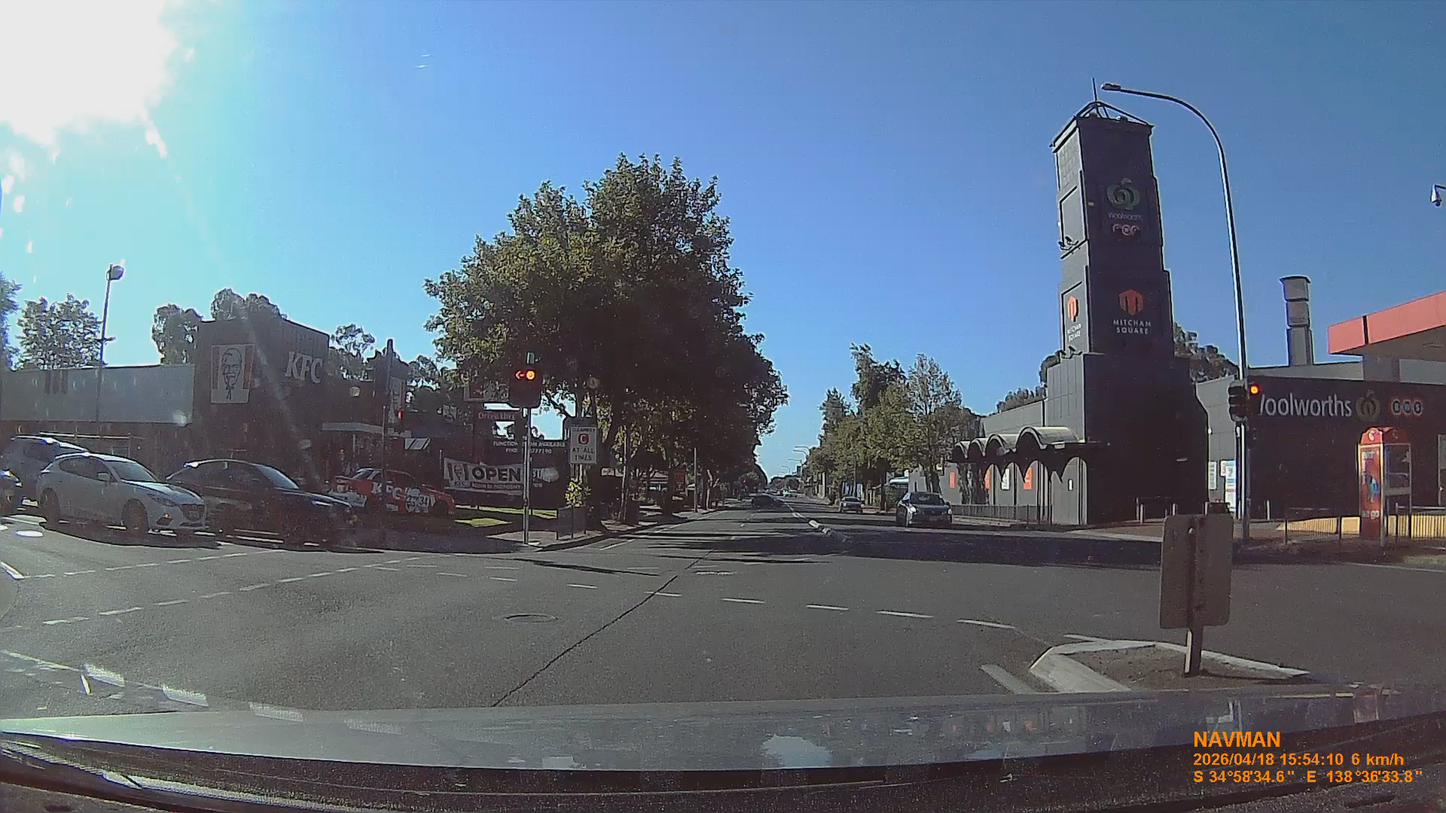fences: (1254, 516, 1358, 543), (953, 504, 1051, 526)
